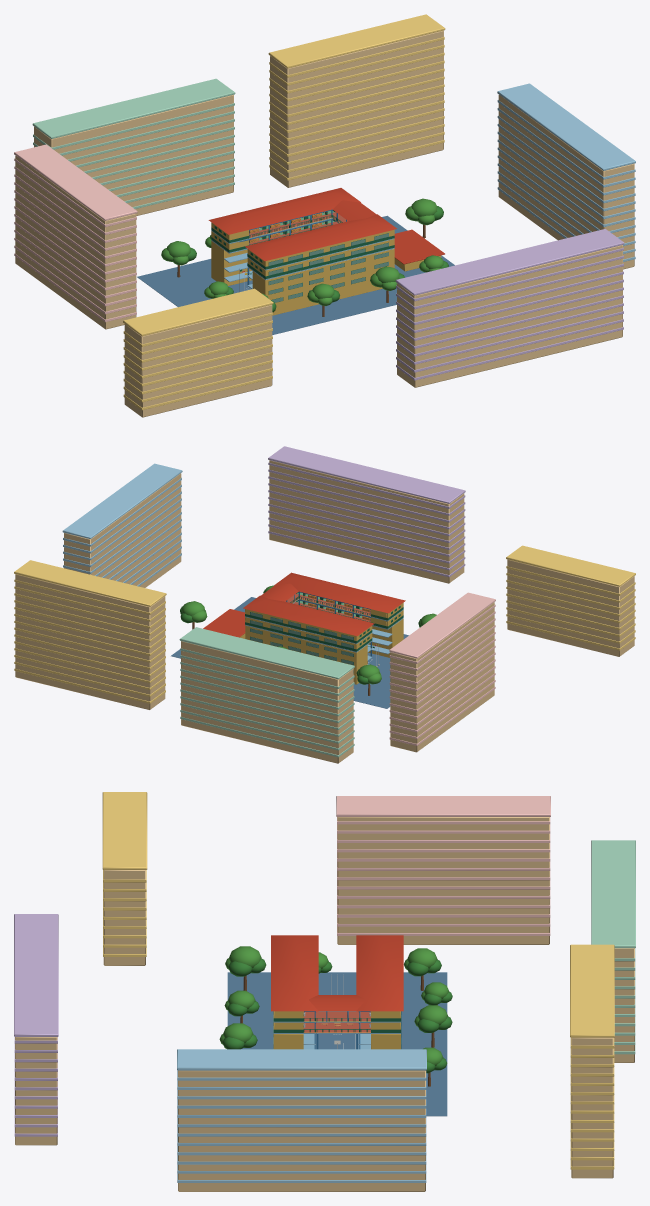
The model's file is classroom_v3.glb.
3 renders of one model, top to bottom at view 1: azimuth 30°, elevation 25°; view 2: azimuth 150°, elevation 25°; view 3: azimuth 270°, elevation 25°, orthographic. The views are drawn at different scales.
Parts seen in each view (by area): view 1: map_o_cap, map_o_f2d27c, map_o_c7b5d9, map_o_a6d6be, map_o_9ec9df, map_o_f4c7c3, map_roofred, map_wall, map_tarmac, map_leaf, map_glassg, map_dado (+3 smaller); view 2: map_o_cap, map_o_f2d27c, map_o_c7b5d9, map_o_a6d6be, map_o_f4c7c3, map_o_9ec9df, map_roofred, map_wall, map_tarmac, map_glassg, map_dado, map_ceil (+3 smaller); view 3: map_o_cap, map_o_9ec9df, map_o_f4c7c3, map_o_f2d27c, map_roofred, map_o_c7b5d9, map_tarmac, map_o_a6d6be, map_leaf, map_leaf2, map_wall, map_screed (+1 smaller).
Part boxes in pixels (left/top/right/bottom): map_o_cap: left=15, top=30, right=634, bottom=417; map_o_f2d27c: left=123, top=14, right=445, bottom=410; map_o_c7b5d9: left=395, top=229, right=624, bottom=380; map_o_a6d6be: left=32, top=78, right=235, bottom=208; map_o_9ec9df: left=497, top=83, right=635, bottom=261; map_o_f4c7c3: left=14, top=144, right=137, bottom=322; map_roofred: left=208, top=188, right=444, bottom=264; map_wall: left=211, top=217, right=441, bottom=315; map_tarmac: left=137, top=215, right=454, bottom=334; map_leaf: left=161, top=198, right=443, bottom=305; map_glassg: left=269, top=233, right=388, bottom=302; map_dado: left=211, top=210, right=394, bottom=279; map_o_cap: left=15, top=460, right=634, bottom=763; map_o_f2d27c: left=14, top=545, right=635, bottom=703; map_o_c7b5d9: left=268, top=446, right=465, bottom=577; map_o_a6d6be: left=179, top=627, right=354, bottom=757; map_o_f4c7c3: left=389, top=592, right=495, bottom=745; map_o_9ec9df: left=62, top=463, right=182, bottom=586; map_roofred: left=203, top=572, right=405, bottom=637; map_wall: left=239, top=598, right=403, bottom=684; map_tarmac: left=171, top=597, right=408, bottom=708; map_glassg: left=250, top=612, right=353, bottom=664; map_dado: left=245, top=592, right=403, bottom=651; map_ceil: left=245, top=599, right=403, bottom=664; map_o_cap: left=15, top=817, right=634, bottom=1191; map_o_9ec9df: left=177, top=1049, right=426, bottom=1182; map_o_f4c7c3: left=336, top=796, right=550, bottom=935; map_o_f2d27c: left=102, top=792, right=614, bottom=1169; map_roofred: left=271, top=935, right=403, bottom=1011; map_o_c7b5d9: left=14, top=914, right=58, bottom=1136; map_tarmac: left=227, top=972, right=447, bottom=1116; map_o_a6d6be: left=591, top=840, right=635, bottom=1054; map_leaf: left=219, top=946, right=449, bottom=1065; map_leaf2: left=222, top=959, right=452, bottom=1073; map_wall: left=273, top=1011, right=400, bottom=1049; map_screed: left=303, top=1011, right=370, bottom=1032.
Size of what is drawn, in the model's own units: 202 by 45 by 176.
